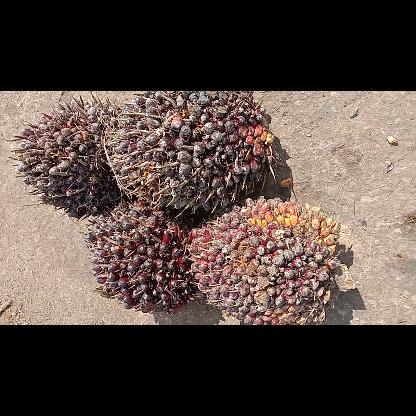Kurang masak: (185, 194, 357, 324), (110, 92, 284, 218), (14, 98, 121, 218), (82, 214, 198, 317)
